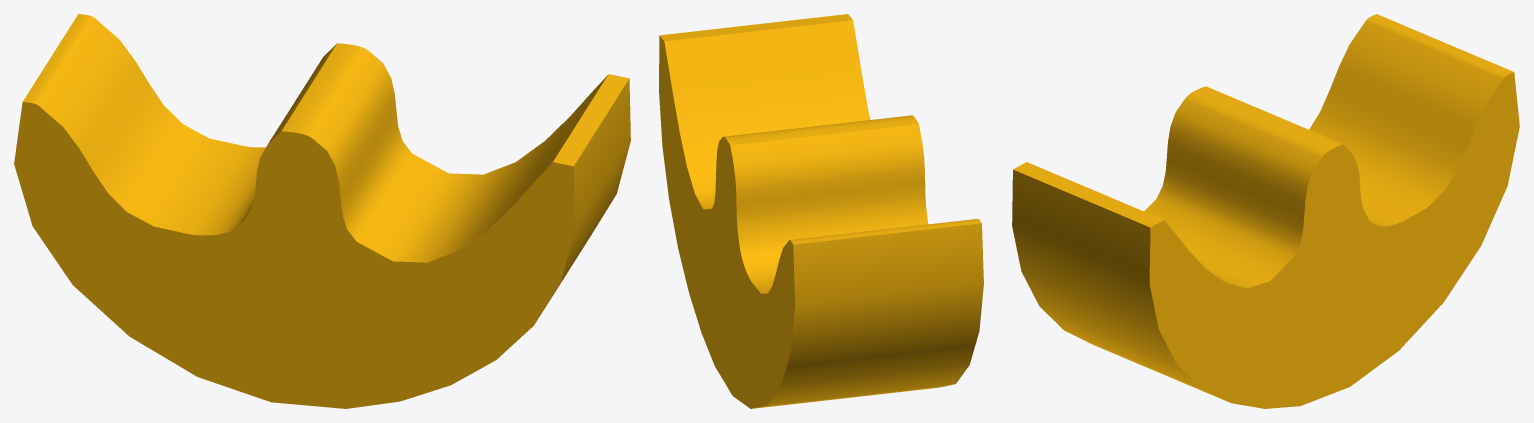
File: 005-Spoon1.FBX
3 views of the same model, side by side, from view 1: azimuth 30°, elevation 25°; view 2: azimuth 150°, elevation 25°; view 3: azimuth 270°, elevation 25° (orthographic). The views are drawn at different scales.
Visible parts, largest first — view 1: 005-Spoon1; view 2: 005-Spoon1; view 3: 005-Spoon1.
Boxes of the visible parts, x1,y1,x2,y2 form: 005-Spoon1: (14, 14, 630, 408); 005-Spoon1: (659, 14, 983, 408); 005-Spoon1: (1012, 14, 1519, 408).
Size of the model in its own units: 49.99 by 26.69 by 49.99.
